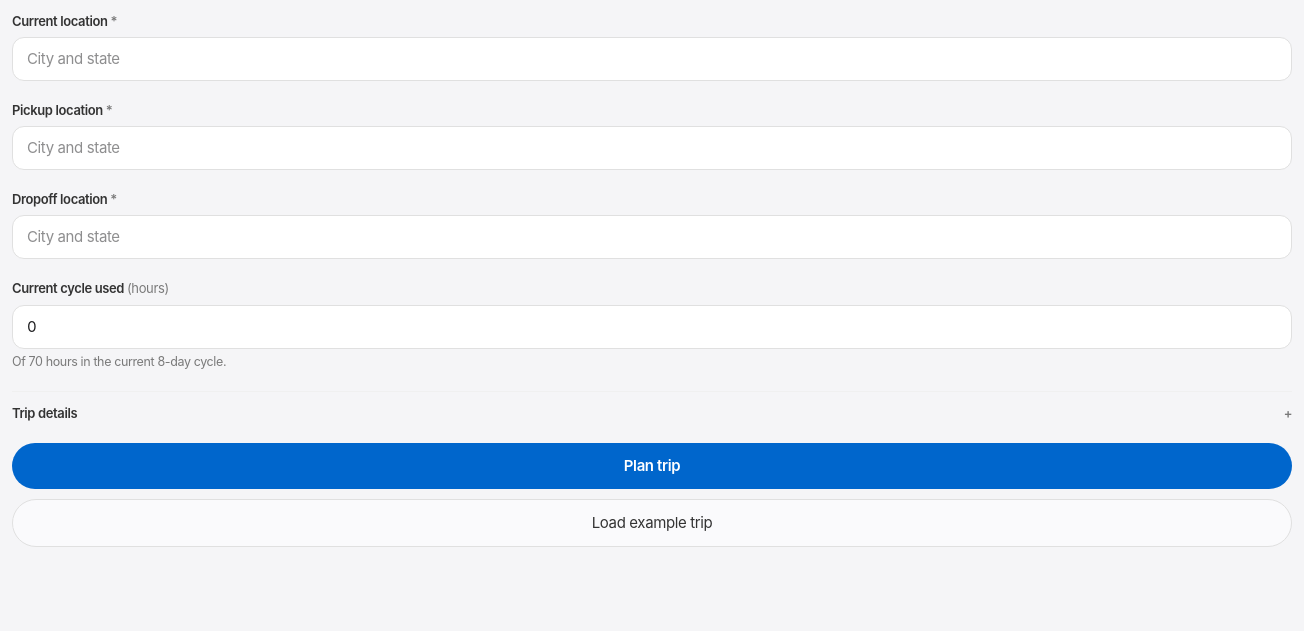
Test case: submission › refuses to submit without three resolved locations
The image size is (1304, 631).
Click the button "Plan trip": [652, 466] box [12,443,1292,489]
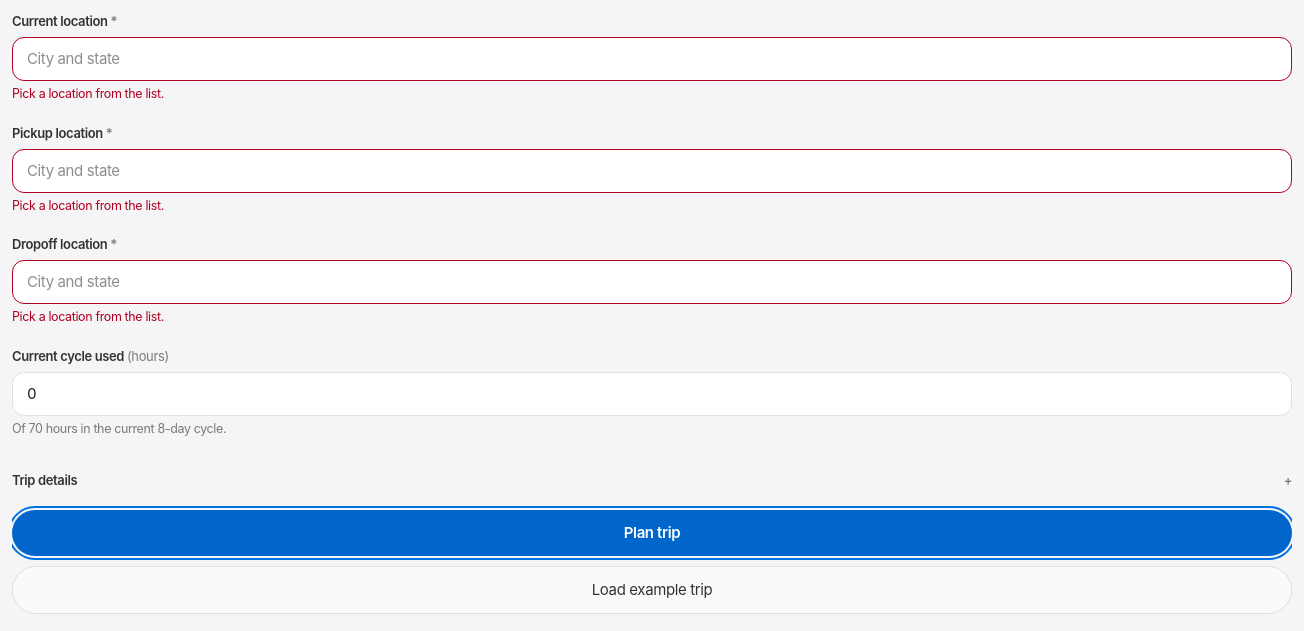
Result: the text "Pick a location from the list." is shown 3 times at [12,86,164,101]; [12,198,164,213]; [12,309,164,324]
